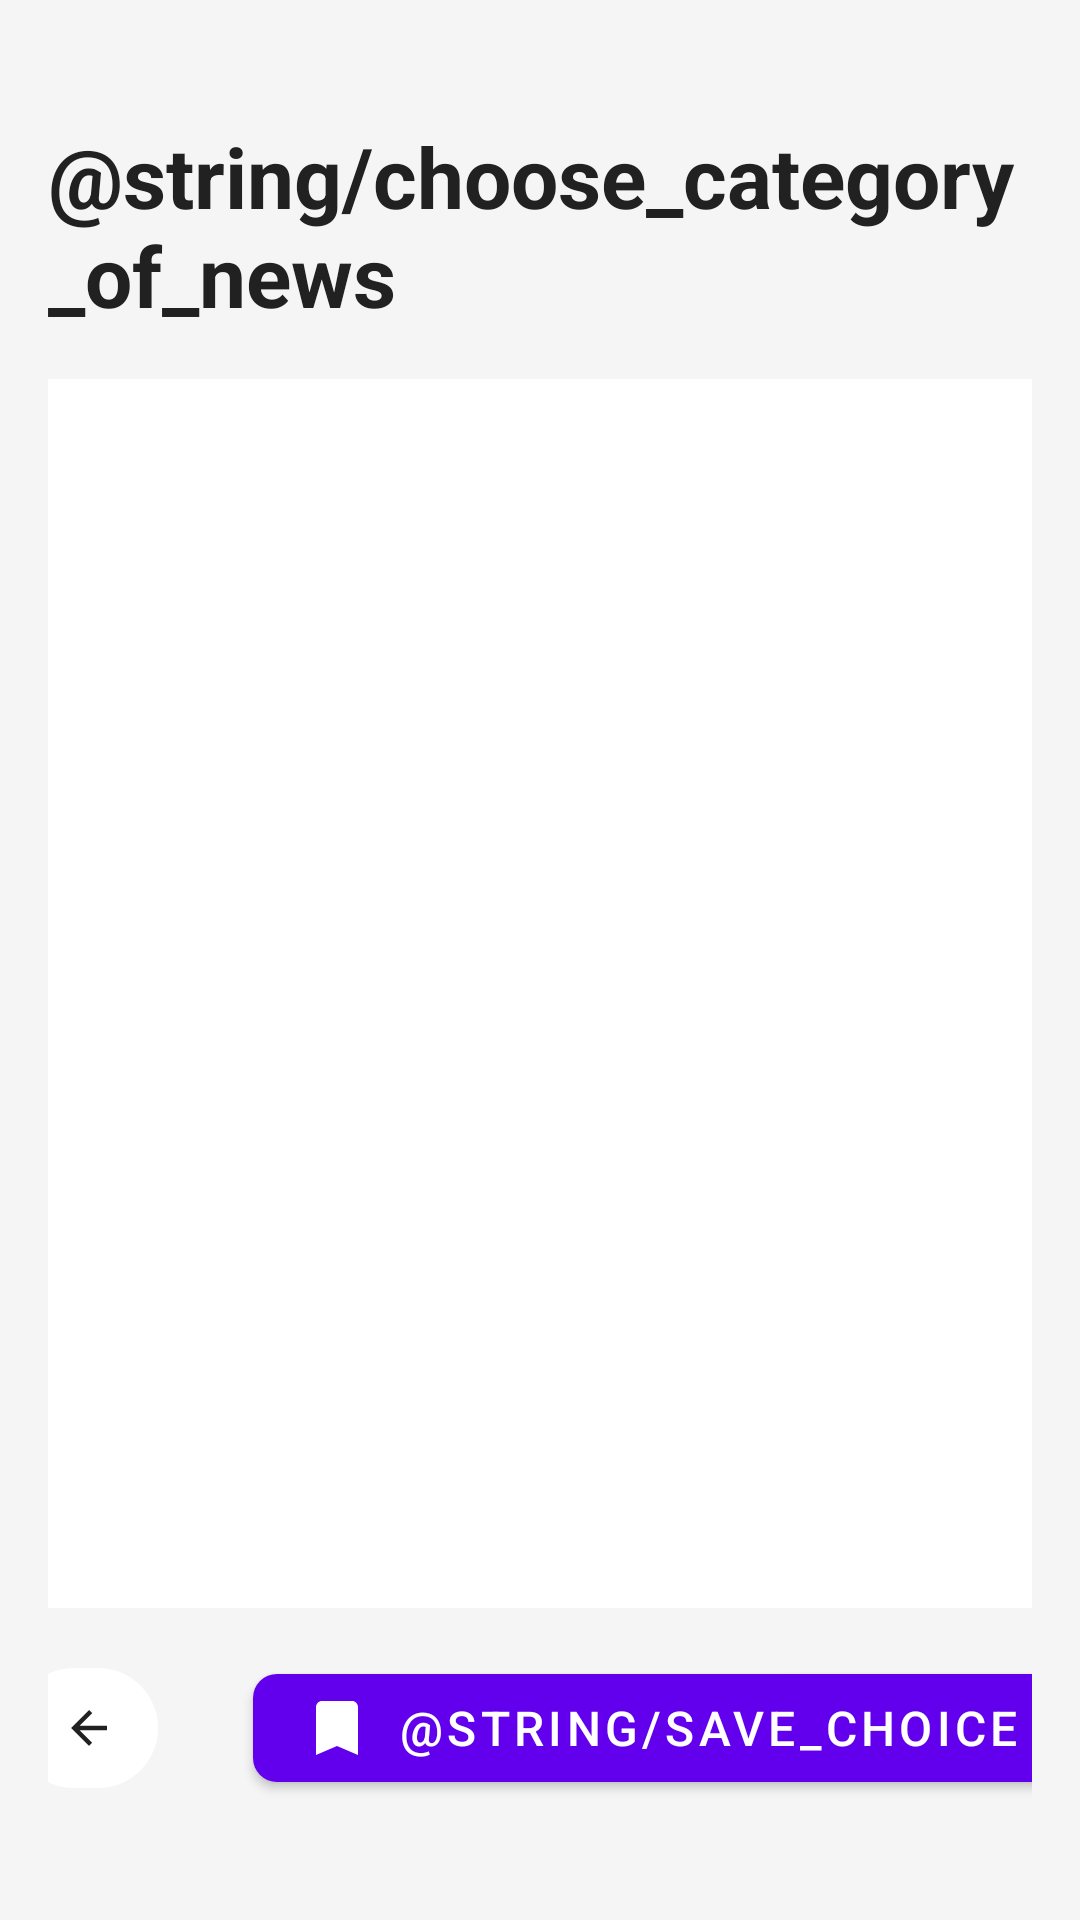

Named icons in this screenshot (1080 x 1920) and their bounding boxes, rect(x1, y1, x2, y2):
arrow back: rect(48, 1668, 158, 1788)
